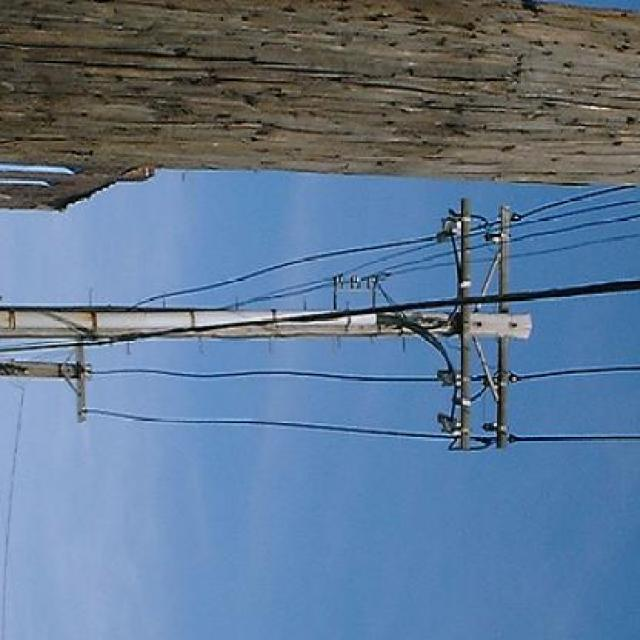pole: (0, 215, 537, 451)
